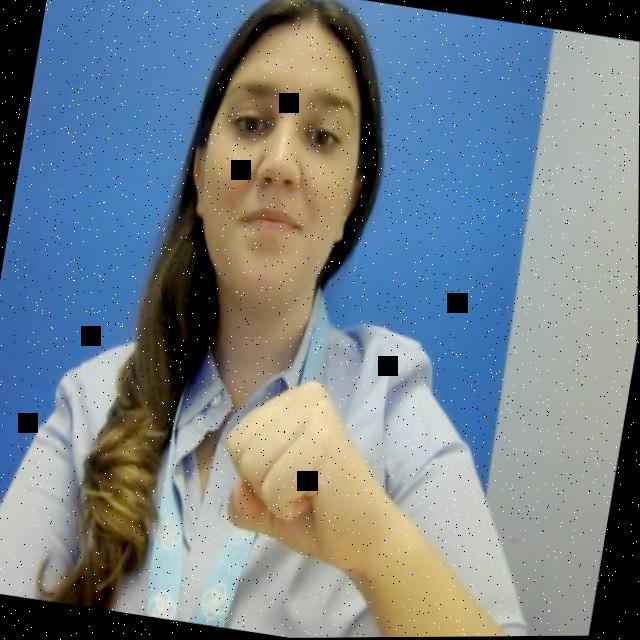Rock: (171, 339, 408, 608)
